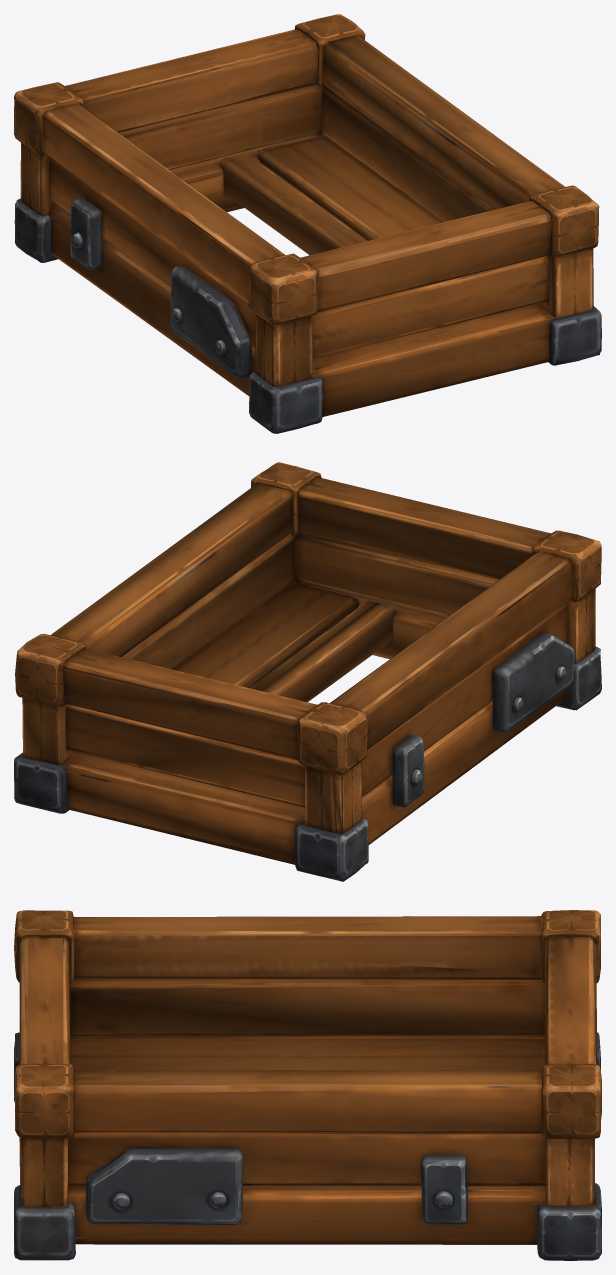
Rendered from Ironbound_Wooden_Crate_02.fbx.
3 renders of one model, top to bottom at view 1: azimuth 30°, elevation 25°; view 2: azimuth 150°, elevation 25°; view 3: azimuth 270°, elevation 25°, orthographic. The views are drawn at different scales.
Visible parts, largest first — view 1: mesh_node; view 2: mesh_node; view 3: mesh_node.
Part boxes in pixels (bbox=[...]): mesh_node: bbox=[14, 14, 601, 433]; mesh_node: bbox=[14, 462, 601, 881]; mesh_node: bbox=[14, 910, 601, 1260].
Size of the model in its own units: 76.95 by 32.81 by 100.
Materials: 1 (1 with a texture image).
